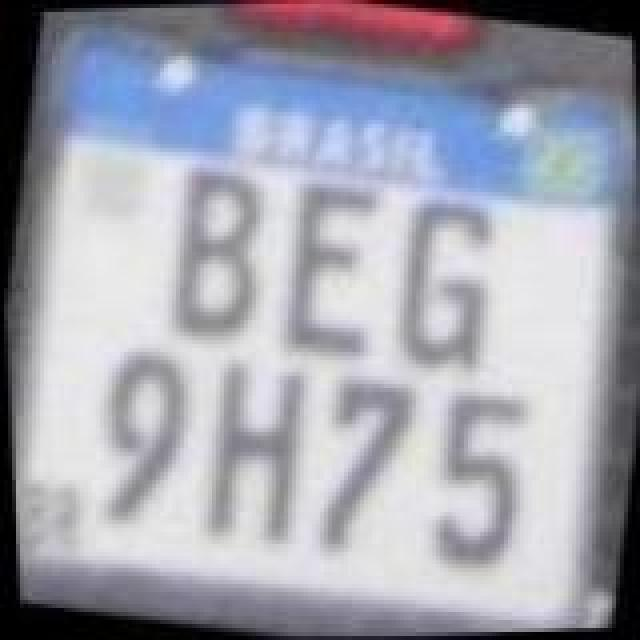5: (412, 378, 540, 582)
7: (298, 364, 430, 564)
9: (72, 334, 204, 534)
B: (148, 154, 284, 354)
E: (264, 172, 396, 368)
G: (376, 184, 508, 380)
H: (186, 352, 322, 552)
